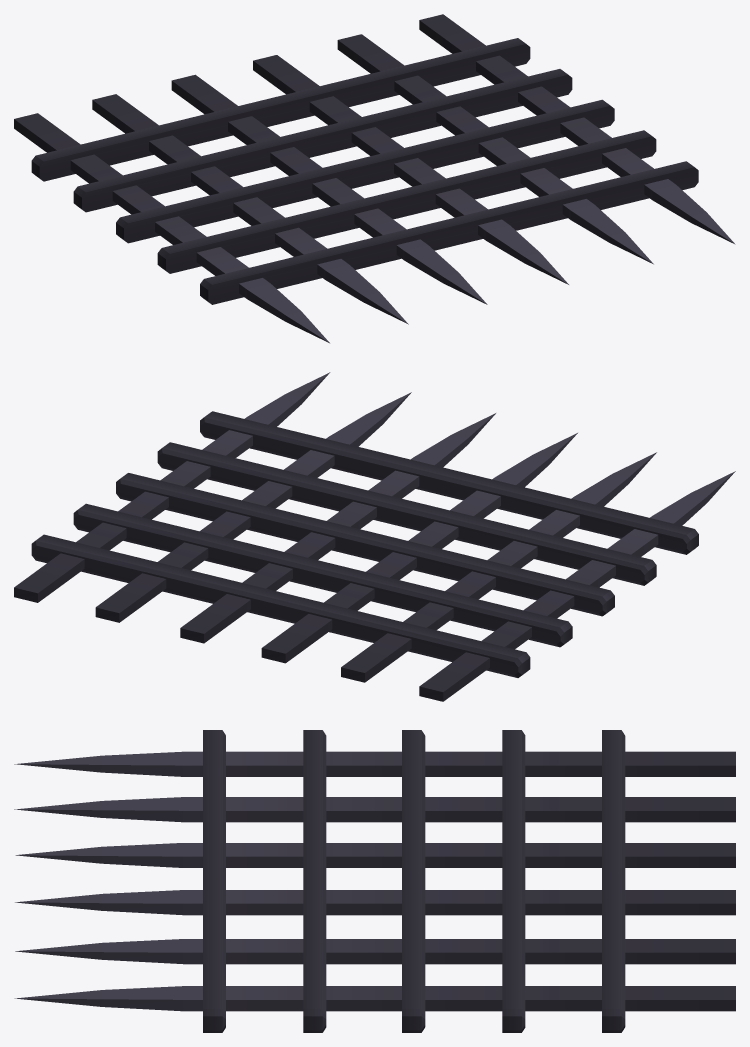
File: Entrance 02 Gate.FBX
3 renders of one model, top to bottom at view 1: azimuth 30°, elevation 25°; view 2: azimuth 150°, elevation 25°; view 3: azimuth 270°, elevation 25°, orthographic. The views are drawn at different scales.
Parts seen in each view (by area): view 1: Entrance 02 Gate; view 2: Entrance 02 Gate; view 3: Entrance 02 Gate.
Part boxes in pixels (<box>): Entrance 02 Gate: <box>14,14,735,343</box>; Entrance 02 Gate: <box>14,372,735,701</box>; Entrance 02 Gate: <box>14,730,735,1032</box>.
Size of the model in its own units: 233 by 9.11 by 251.
